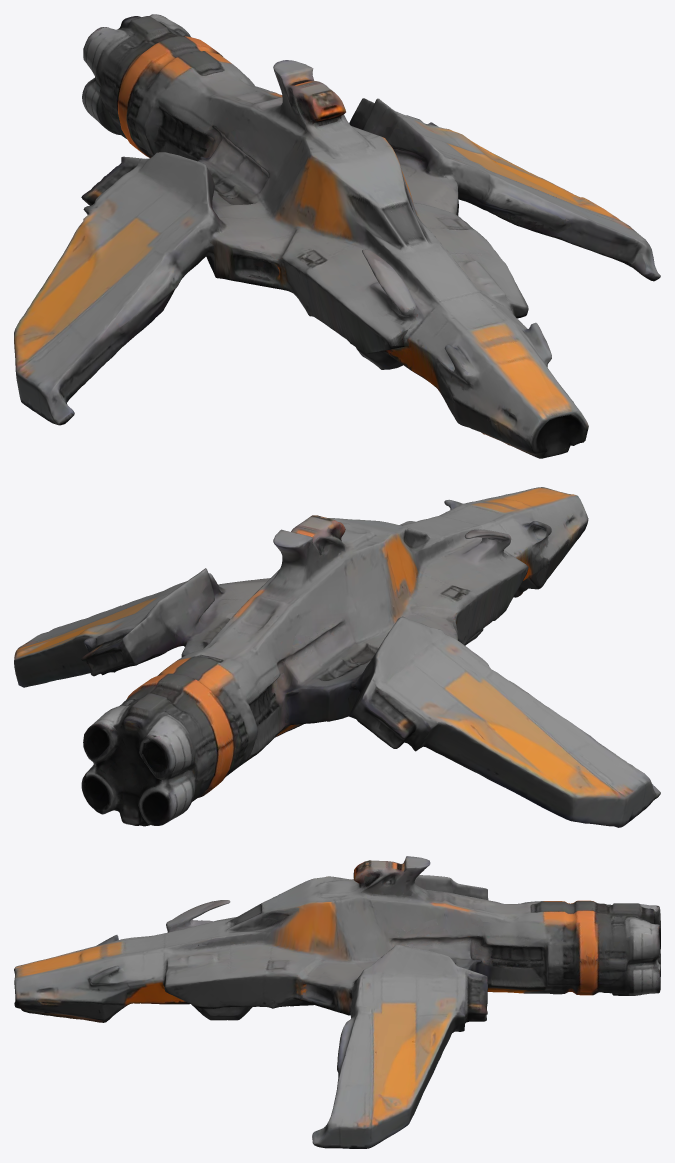
File: sci_fi_combat_vessel.glb
The picture shows the model from 3 angles, top to bottom: view 1: azimuth 30°, elevation 25°; view 2: azimuth 150°, elevation 25°; view 3: azimuth 270°, elevation 25°; orthographic projection. The views are drawn at different scales.
Visible parts, largest first — view 1: input; view 2: input; view 3: input.
Part boxes in pixels (bbox=[...]): input: bbox=[14, 14, 660, 458]; input: bbox=[14, 487, 660, 827]; input: bbox=[14, 856, 660, 1148].
Size of the model in its own units: 6.49 by 2.43 by 8.
1 material, 1 textured.
